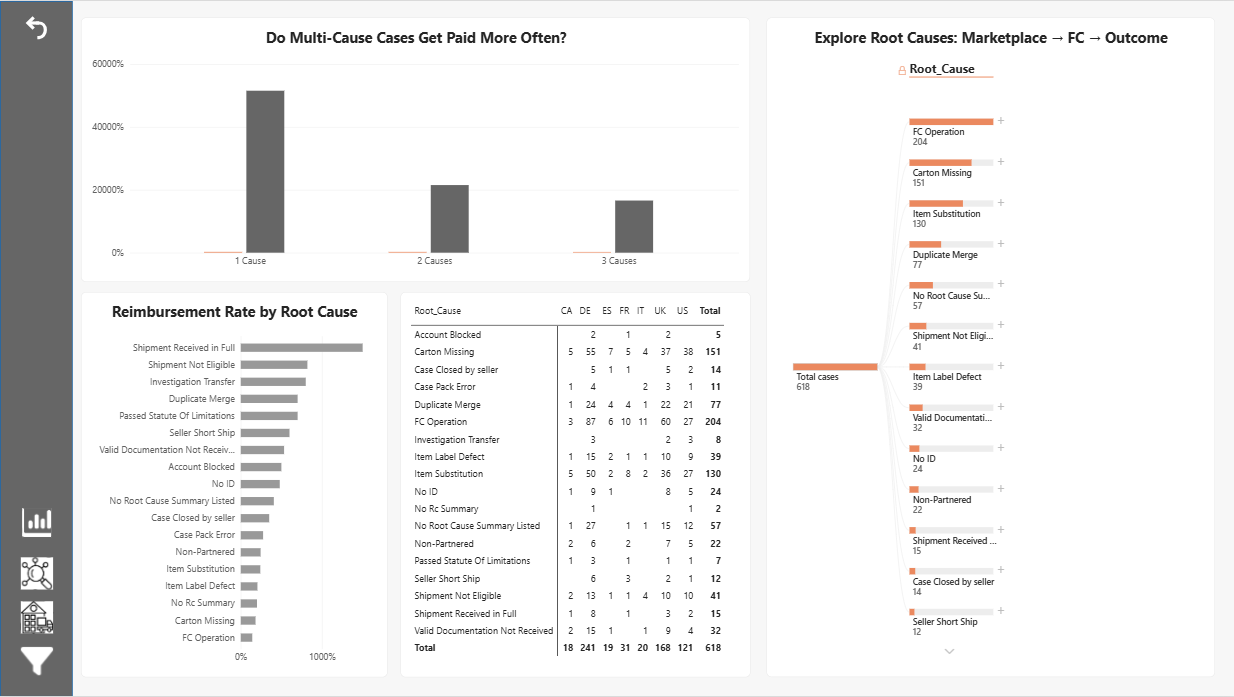

Layout of this report page (visuals, bound fields, positions):
{"tool":"powerbi","page":{"name":"Root Cause Analysis","canvas":[1920,1080],"ordinal":1},"visuals":[{"type":"decompositionTreeVisual","title":"Explore Root Causes: Marketplace → FC → Outcome","fields":{"Analyze":["Measures_Table.Total cases"],"ExplainBy":["Root_Cause_Bridge.Root Cause","RMS_Clean.RMS Given","RMS_Clean.Marketplace","RMS_Clean.FC"]},"box":[1187.5,25,695,1022.5],"z":1},{"type":"shape","box":[0,0,112.5,1080],"z":2},{"type":"clusteredBarChart","title":"Reimbursement Rate by Root Cause","fields":{"Category":["Root_Cause_Bridge.Root_Cause"],"Y":["Measures_Table.Reimbursement rate %"]},"box":[125,450,475,597.5],"z":3},{"type":"pivotTable","fields":{"Columns":["RMS_Clean.Marketplace"],"Rows":["Root_Cause_Bridge.Root_Cause"],"Values":["Measures_Table.Total cases"]},"box":[620,450,542.5,597.5],"z":4},{"type":"clusteredColumnChart","title":"Do Multi-Cause Cases Get Paid More Often?","fields":{"Category":["RMS_Clean.Complexity Coloumn"],"Y":["Measures_Table.Reimbursement rate %","Measures_Table.Avg RMS per case"]},"box":[125,25,1037.5,410],"z":5},{"type":"actionButton","box":[7.5,767.5,100,82.5],"z":6},{"type":"actionButton","box":[7.5,922.5,100,65],"z":7},{"type":"actionButton","box":[7.5,850,100,72.5],"z":8},{"type":"actionButton","box":[7.5,987.5,100,70],"z":9},{"type":"actionButton","box":[7.3,0,100,82.5],"z":10}]}

Visuals, with their boxes on the page's 1920x1080 design canvas (x1, y1, x2, y2). These are canvas units, not pixel positions in the 1234x697 screenshot, which may show the page scaled, cropped or inside an application window:
"Explore Root Causes: Marketplace → FC → Outcome" decompositionTreeVisual: rect(1188, 25, 1882, 1048)
shape: rect(0, 0, 112, 1080)
"Reimbursement Rate by Root Cause" clusteredBarChart: rect(125, 450, 600, 1048)
pivotTable - RMS_Clean.Marketplace x Root_Cause_Bridge.Root_Cause: rect(620, 450, 1162, 1048)
"Do Multi-Cause Cases Get Paid More Often?" clusteredColumnChart: rect(125, 25, 1162, 435)
actionButton: rect(8, 768, 108, 850)
actionButton: rect(8, 922, 108, 988)
actionButton: rect(8, 850, 108, 922)
actionButton: rect(8, 988, 108, 1058)
actionButton: rect(7, 0, 107, 82)
